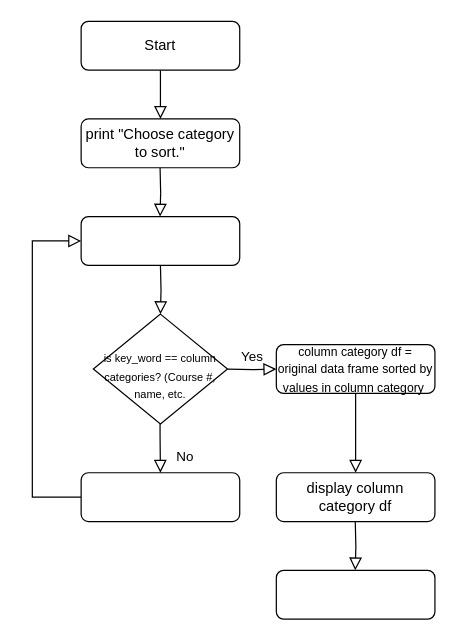
The diagram is 456 pixels wide and 641 high, and some of its shapes have lost their labels. Here are the shapes that lost their labels. From the top down, the centre of each, then its label:
the point at 160,240: key_word = user input of column category to sort by
the point at 160,497: print "Try again!"
the point at 355,594: Stop
